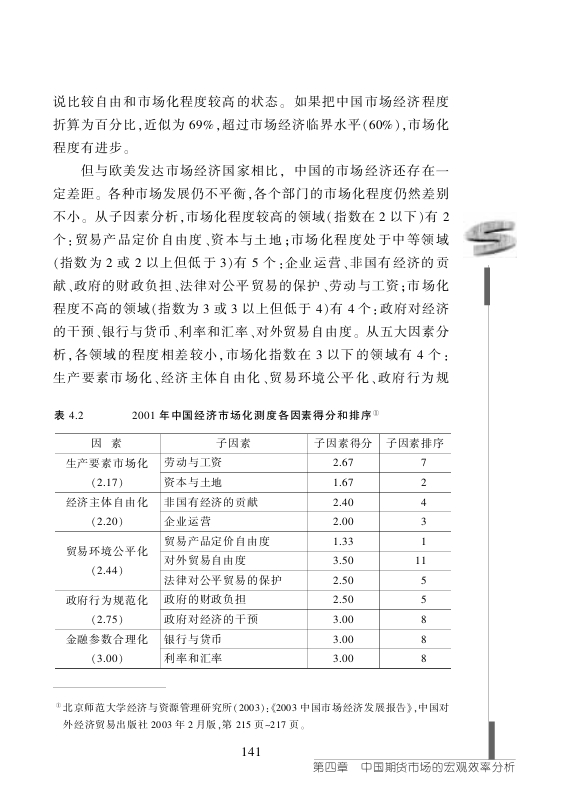table: (54, 433, 451, 669)
